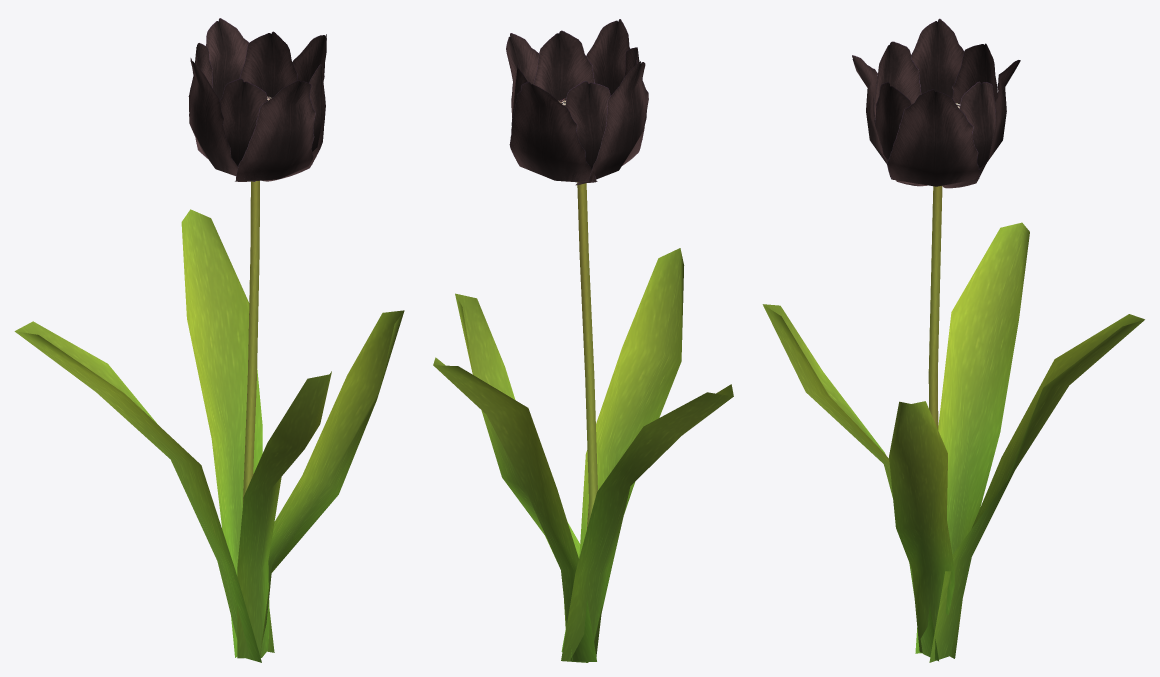
The model's file is m_flower26.fbx.
3 renders of one model, left to right at view 1: azimuth 30°, elevation 25°; view 2: azimuth 150°, elevation 25°; view 3: azimuth 270°, elevation 25°, orthographic.
Visible parts, largest first — view 1: mesh_flower26; view 2: mesh_flower26; view 3: mesh_flower26.
Boxes of the visible parts, left/top/right/bottom form: mesh_flower26: left=14, top=18, right=404, bottom=662; mesh_flower26: left=433, top=19, right=733, bottom=662; mesh_flower26: left=762, top=18, right=1144, bottom=662.
Size of the model in its own units: 0.2387 by 0.4208 by 0.2385.
1 material, 1 textured.
